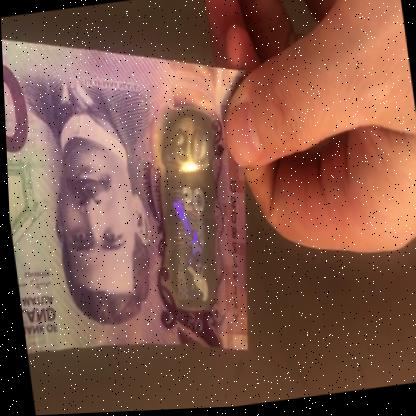50F: (151, 119, 228, 310)
